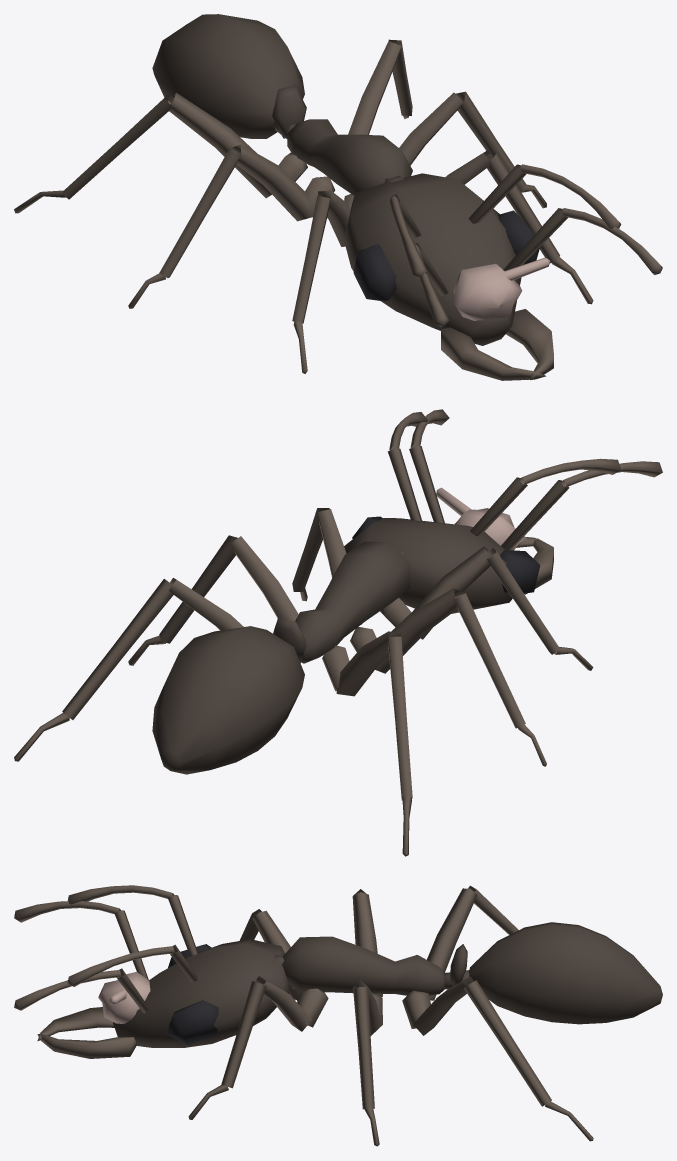
The model's file is ants_lo.glb.
3 views of the same model, one above another, from view 1: azimuth 30°, elevation 25°; view 2: azimuth 150°, elevation 25°; view 3: azimuth 270°, elevation 25° (orthographic). The views are drawn at different scales.
Visible parts, largest first — view 1: worker, soldier, load; view 2: worker, soldier, load; view 3: worker, soldier, load.
Boxes of the visible parts, x1=… form: worker: x1=14, y1=14, x2=621, y2=373; soldier: x1=344, y1=173, x2=662, y2=380; load: x1=452, y1=257, x2=550, y2=320; worker: x1=14, y1=412, x2=621, y2=856; soldier: x1=344, y1=409, x2=662, y2=613; load: x1=436, y1=487, x2=527, y2=550; worker: x1=67, y1=885, x2=662, y2=1146; soldier: x1=14, y1=901, x2=290, y2=1058; load: x1=98, y1=972, x2=150, y2=1023.
Size of the model in its own units: 1.01 by 0.3892 by 1.6.
